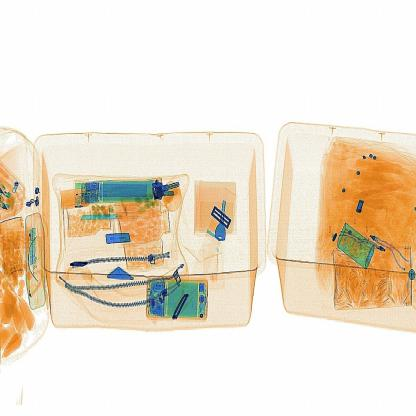pliers: (76, 205, 132, 231)
